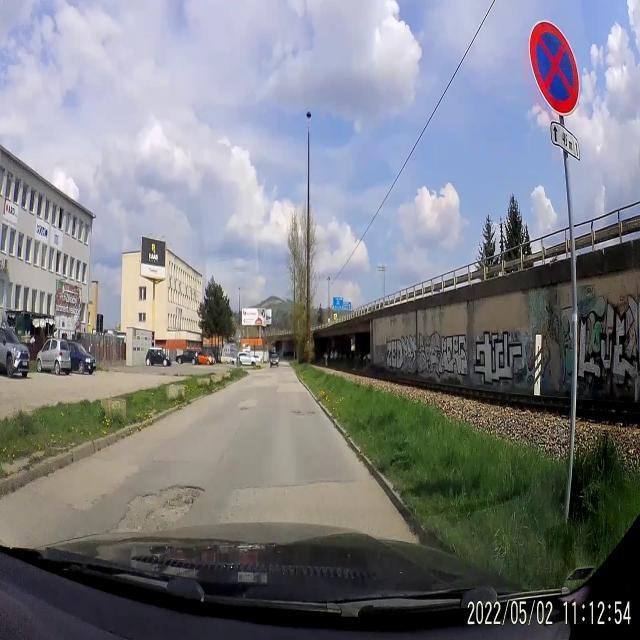Pothole: (124, 476, 203, 530), (237, 394, 259, 414), (292, 408, 320, 420)
